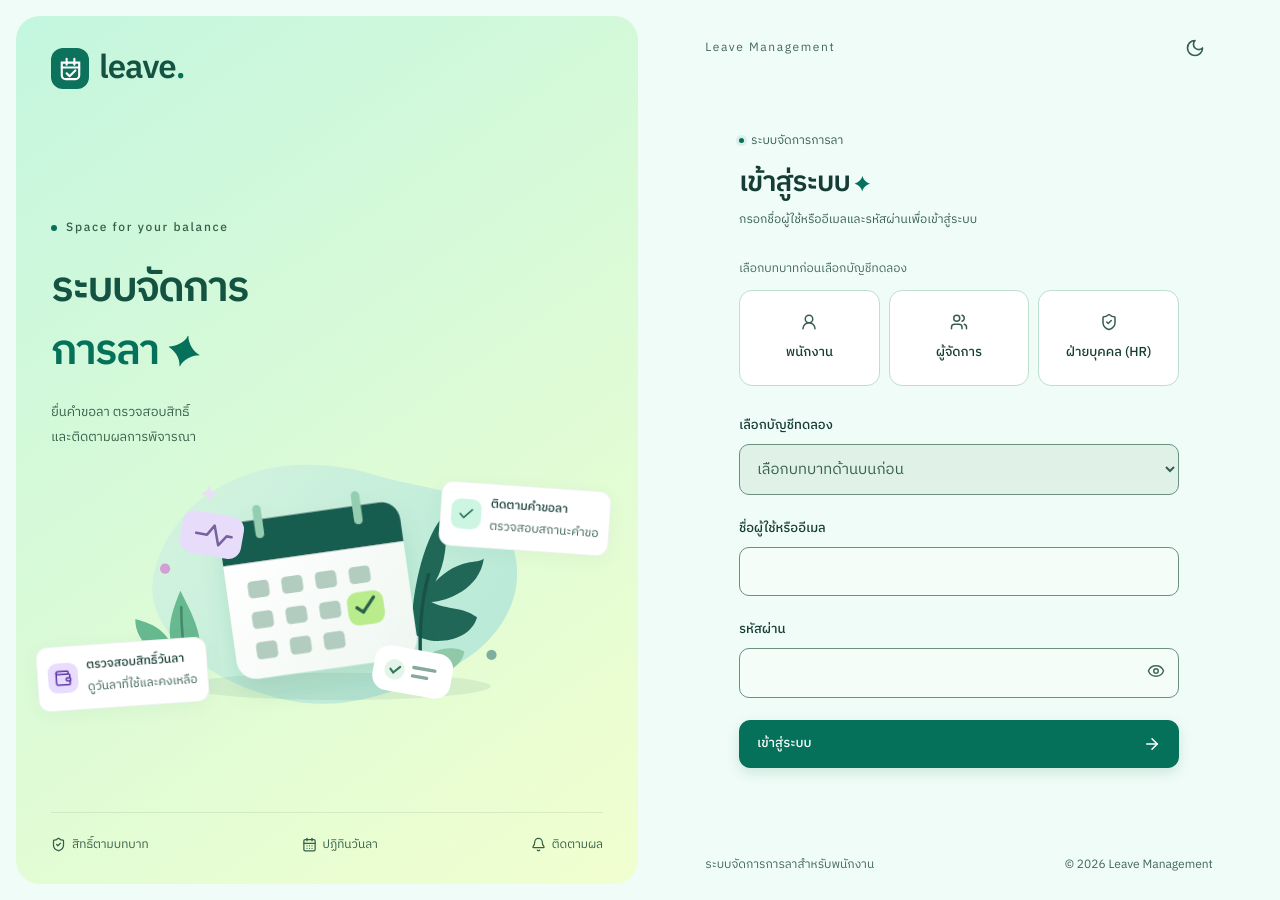
Test case: login starts empty and role selection only lists accounts in that category
Expected: the field labelled "ชื่อผู้ใช้หรืออีเมล" is empty, 739,547 -> 1179,596
Expected: the password field labelled "รหัสผ่าน" is empty, 739,648 -> 1179,698
Click the button "พนักงาน". click: (809, 338)
box: 739,290 -> 880,386
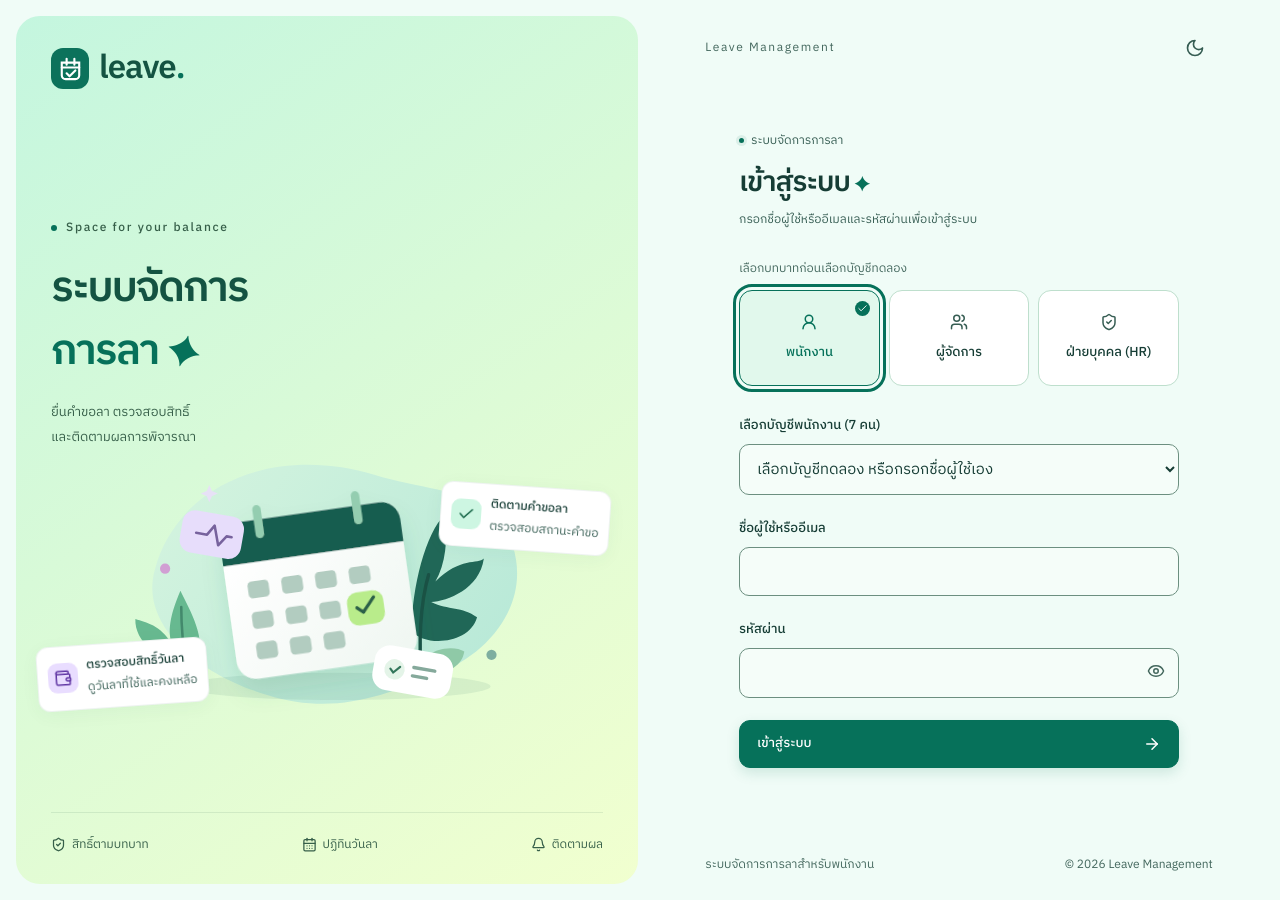
Expected: the password field labelled "รหัสผ่าน" is empty, 739,648 -> 1179,698
Select "อรทัย มั่นคง · orathai · Systems Analyst" in the dropdown with id "login-account". click: (959, 469)
box: 739,444 -> 1179,495
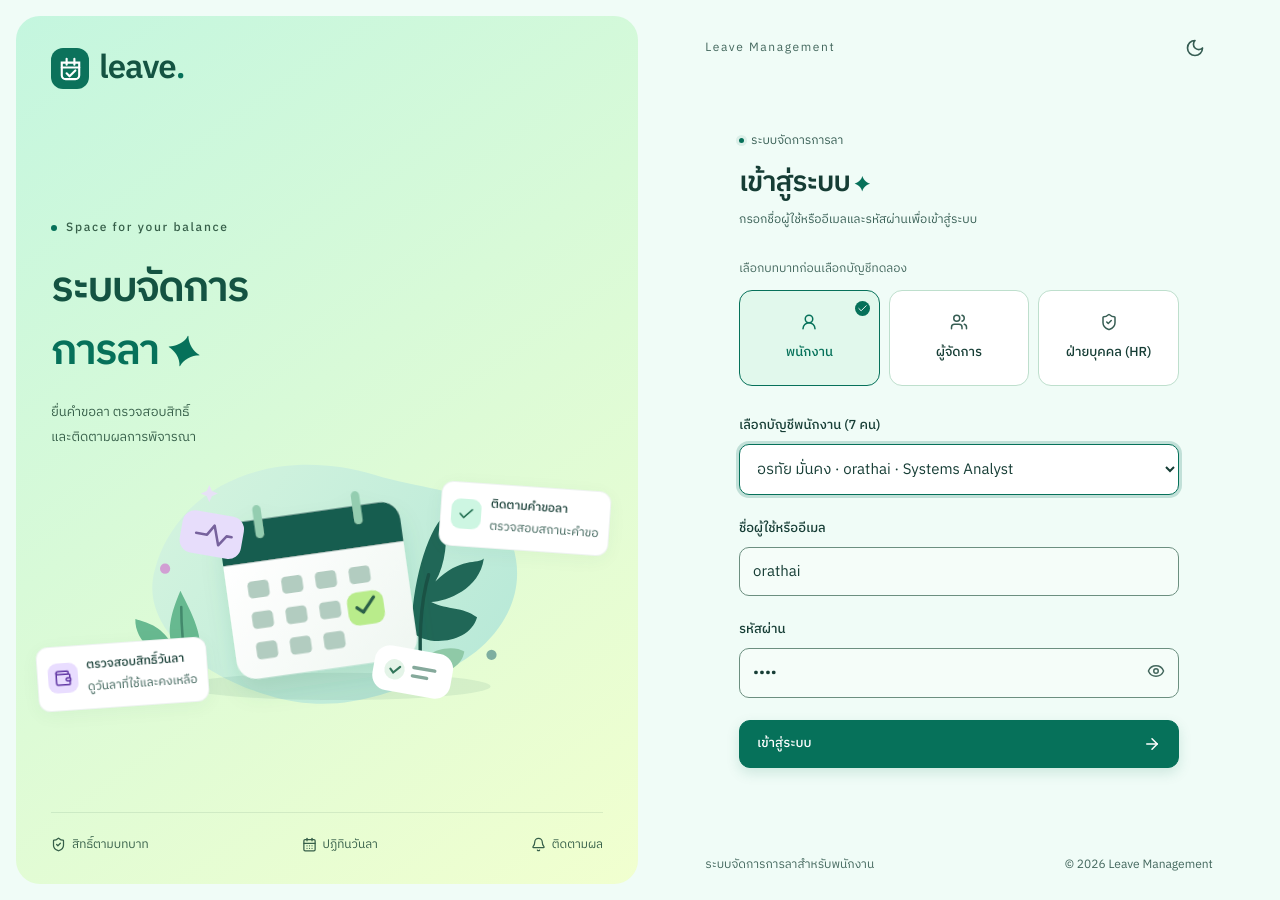
Now the field labelled "ชื่อผู้ใช้หรืออีเมล" holds "orathai", box 739,547 -> 1179,596
Now the password field labelled "รหัสผ่าน" holds "1234", box 739,648 -> 1179,698
